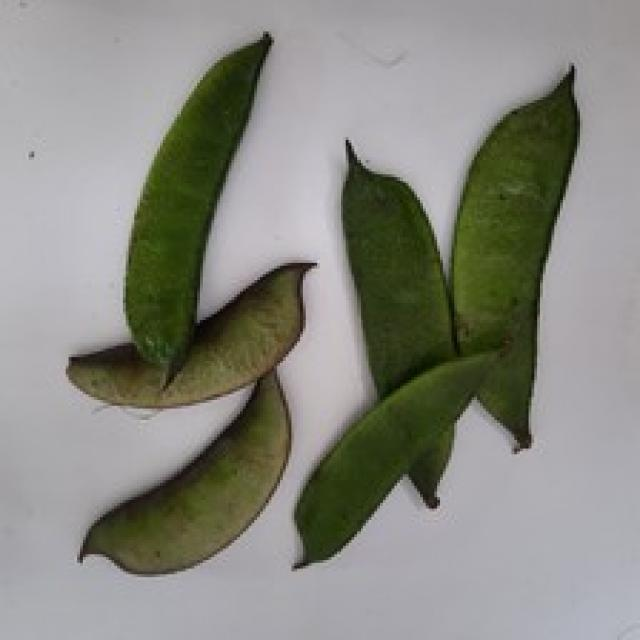Bean: (312, 126, 476, 578), (120, 29, 271, 388), (446, 60, 580, 449), (75, 366, 292, 574), (63, 257, 314, 409)
